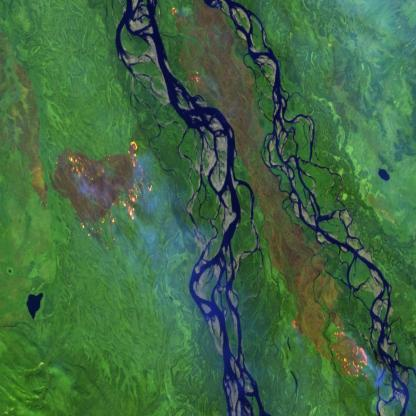fire: (66, 138, 154, 245), (330, 324, 376, 386)
